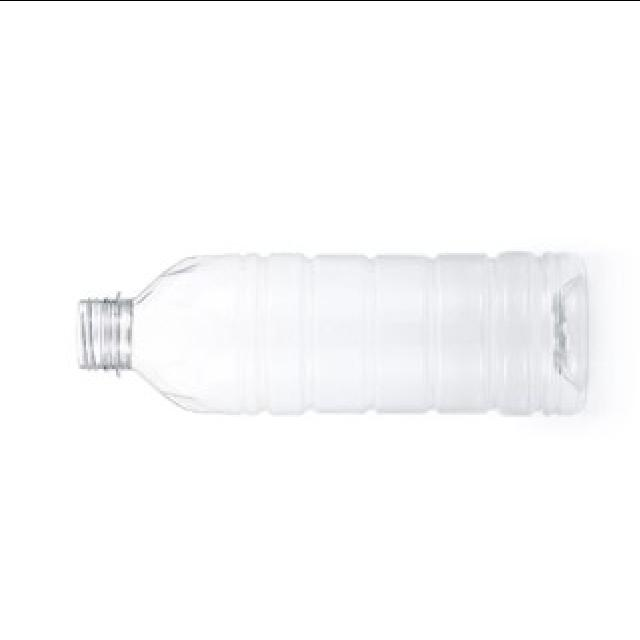bottom: (539, 251, 595, 415)
neck: (64, 251, 198, 420)
